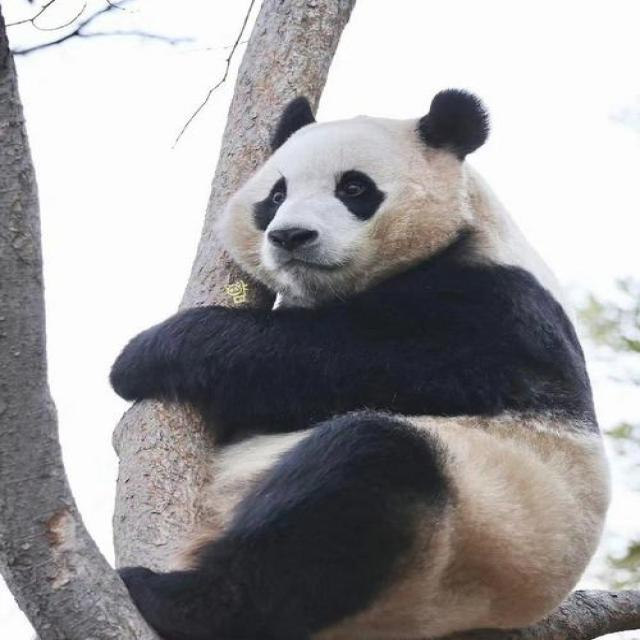panda: (41, 73, 622, 640)
